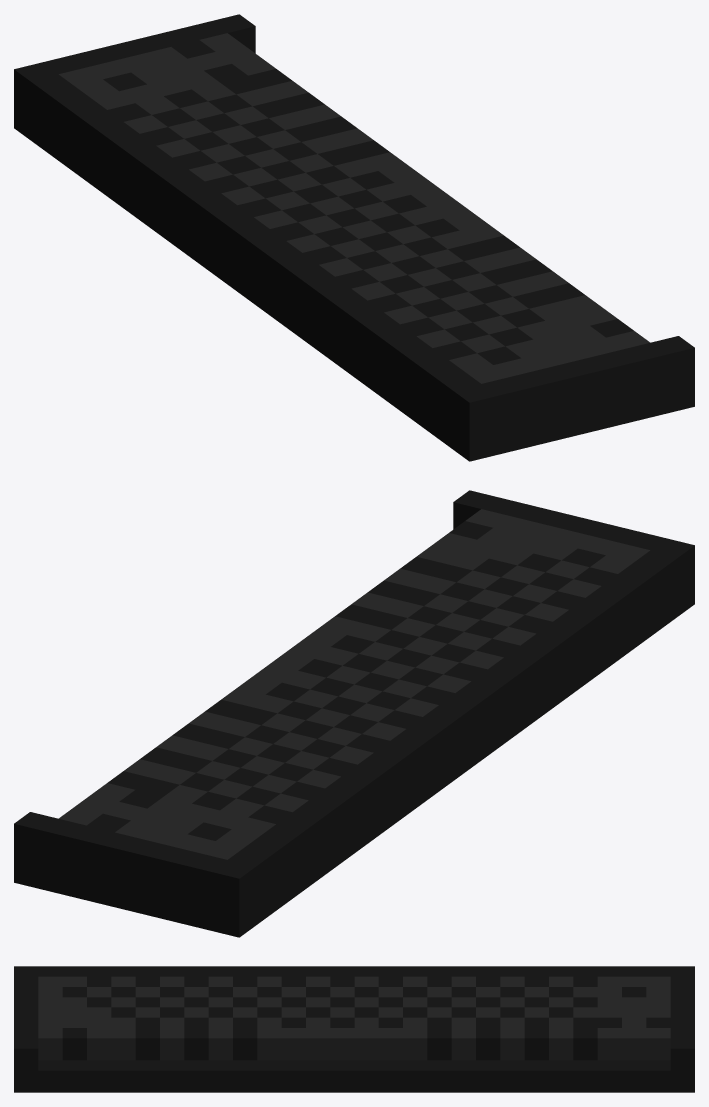
The model's file is Keyboard.obj.
The picture shows the model from 3 angles, top to bottom: view 1: azimuth 30°, elevation 25°; view 2: azimuth 150°, elevation 25°; view 3: azimuth 270°, elevation 25°; orthographic projection. The views are drawn at different scales.
Bounding box in the file's own units: 0.8 × 0.2 × 2.8.
Materials: 1 (1 with a texture image).
